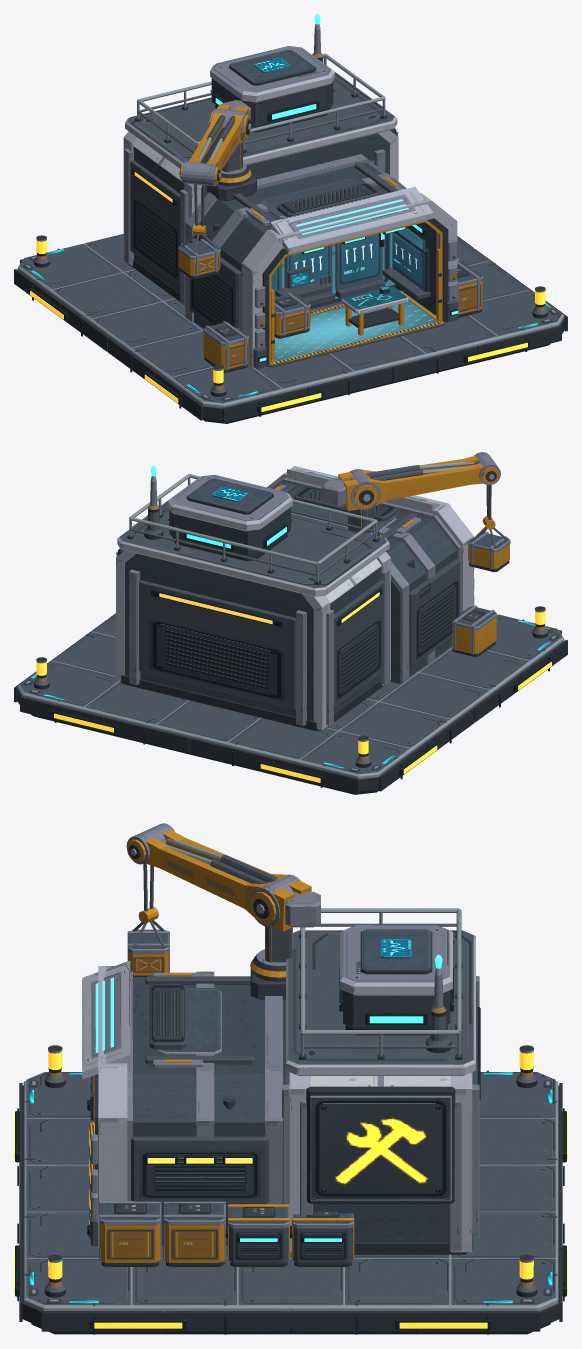
Rendered from TO02_TallerConGrua.fbx.
The picture shows the model from 3 angles, top to bottom: view 1: azimuth 30°, elevation 25°; view 2: azimuth 150°, elevation 25°; view 3: azimuth 270°, elevation 25°; orthographic projection. The views are drawn at different scales.
Visible parts, largest first — view 1: TallerDeObras_2; view 2: TallerDeObras_2; view 3: TallerDeObras_2.
Boxes of the visible parts, left/top/right/bottom form: TallerDeObras_2: left=14, top=14, right=567, bottom=423; TallerDeObras_2: left=14, top=452, right=567, bottom=794; TallerDeObras_2: left=14, top=823, right=567, bottom=1334.
Size of the model in its own units: 6.28 by 3.83 by 6.04.
